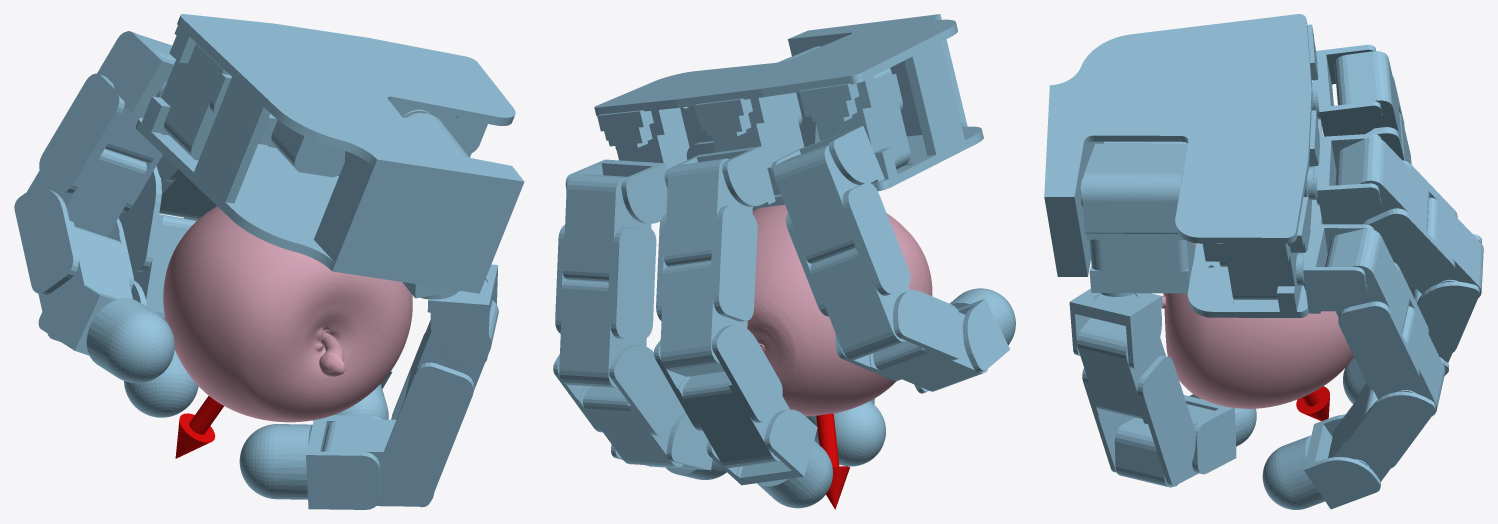
3 views of the same model, side by side, from view 1: azimuth 30°, elevation 25°; view 2: azimuth 150°, elevation 25°; view 3: azimuth 270°, elevation 25° (orthographic). The views are drawn at different scales.
Parts seen in each view (by area): view 1: world, apple.stl; view 2: world, apple.stl; view 3: world, apple.stl.
Part boxes in pixels (x1=…): world: x1=14, y1=14, x2=524, y2=509; apple.stl: x1=163, y1=206, x2=412, y2=422; world: x1=553, y1=14, x2=1015, y2=509; apple.stl: x1=747, y1=204, x2=932, y2=416; world: x1=1044, y1=14, x2=1483, y2=509; apple.stl: x1=1161, y1=223, x2=1353, y2=408.
Bounding box in the file's own units: 0.1568 × 0.1663 × 0.1576.
